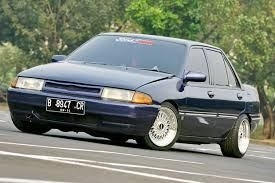plate: (46, 96, 84, 115)
